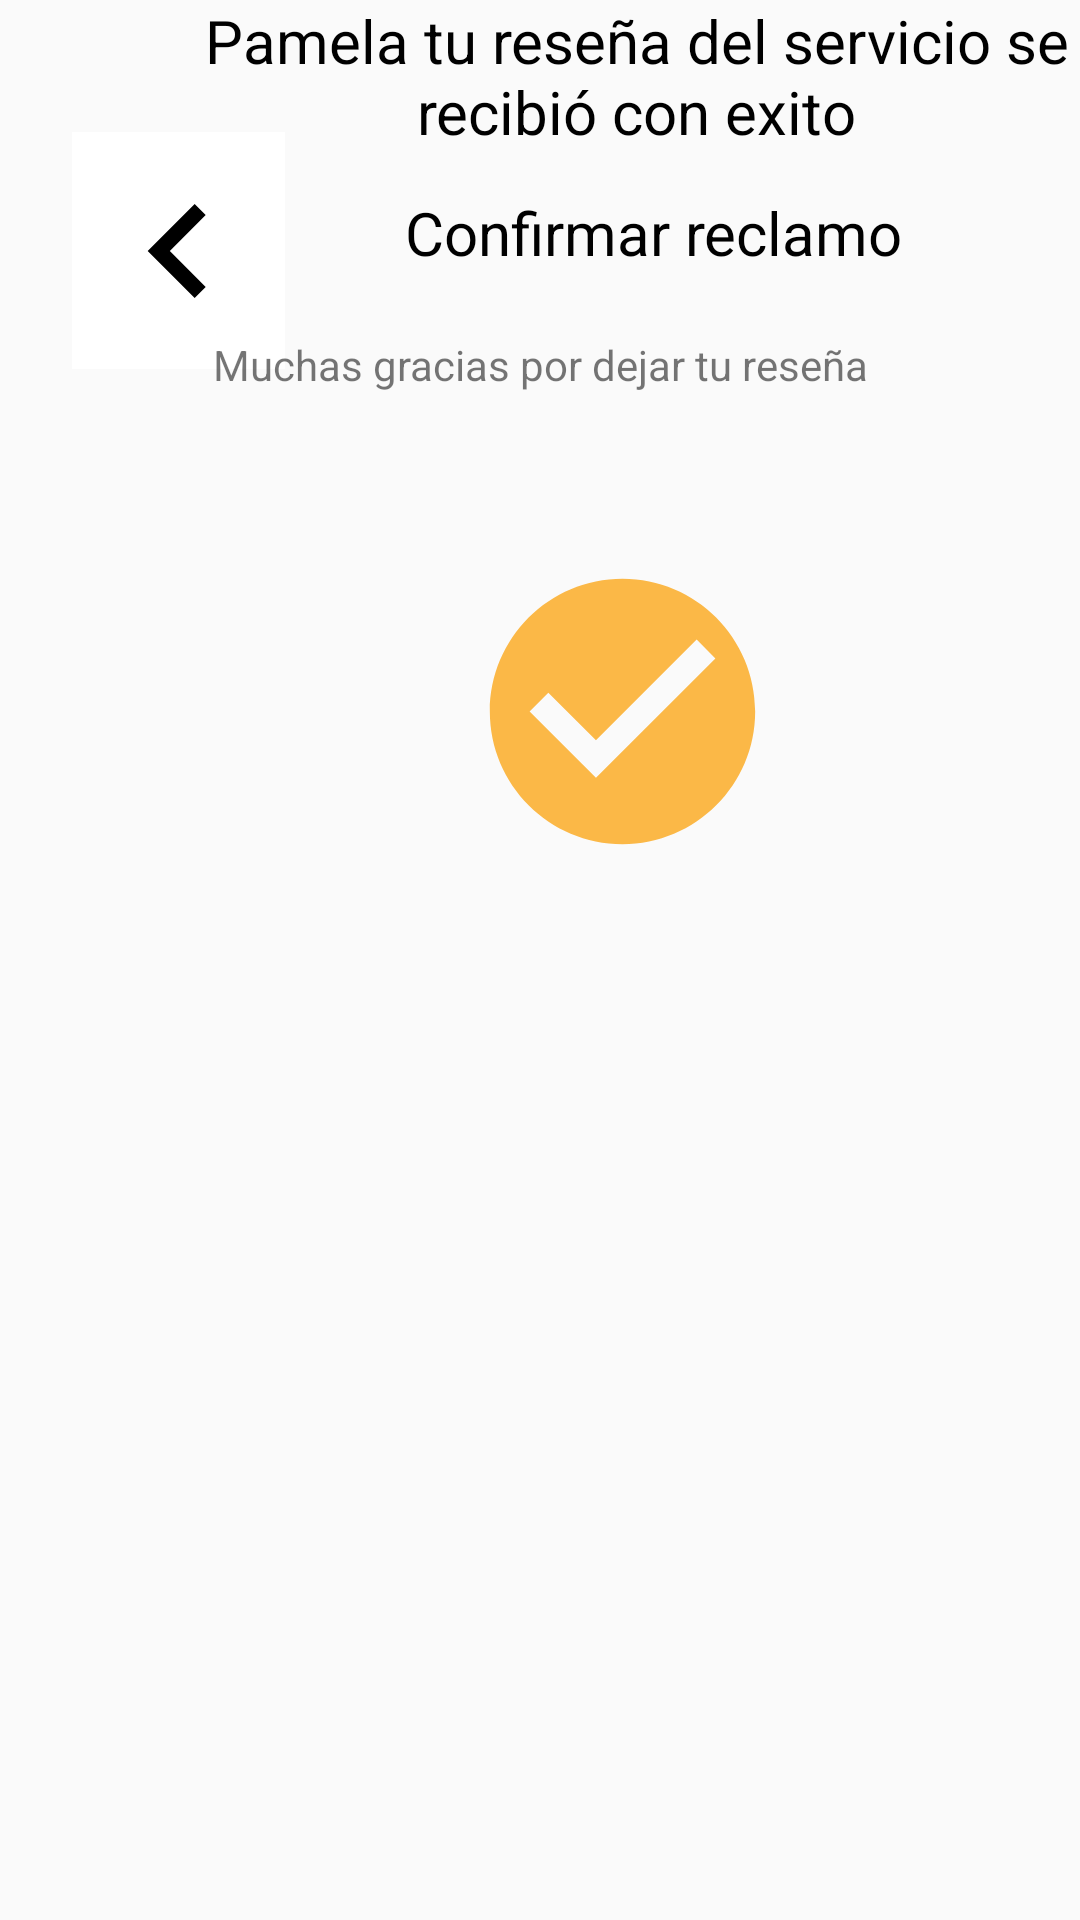

Icons on this 1080×1920 Android screen, each with the point to tap as (x=x, y=y):
checkcircle: (x=622, y=711)
leftkey: (x=177, y=251)
